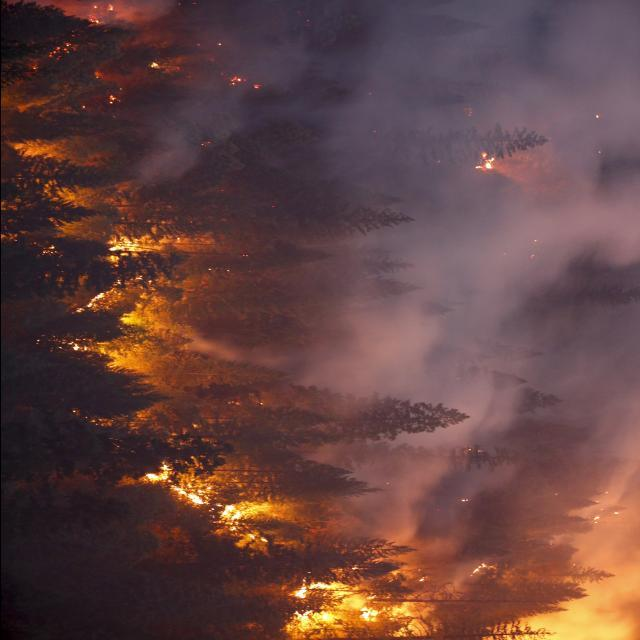Fire: (66, 236, 196, 352), (141, 463, 301, 557), (275, 568, 461, 638)
